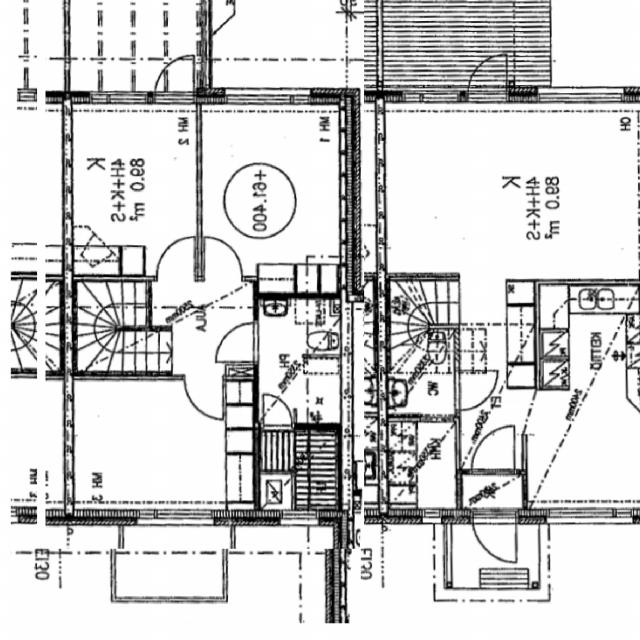door: (474, 509, 516, 567), (473, 426, 516, 474), (469, 48, 507, 102), (157, 53, 194, 104), (455, 371, 498, 409), (216, 323, 258, 361), (185, 375, 222, 418), (205, 238, 242, 280), (158, 238, 195, 280), (264, 395, 292, 430)
